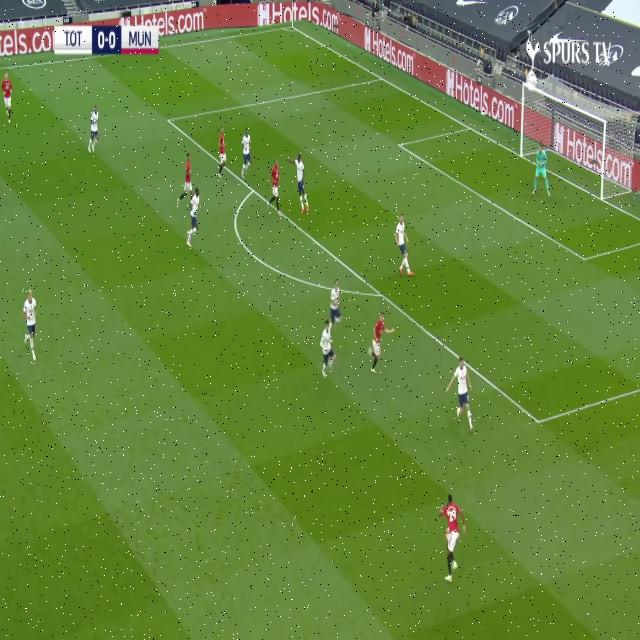GoalKeeper: (530, 136, 550, 198)
TEAM 1: (362, 305, 396, 382), (439, 498, 466, 586), (267, 154, 283, 218), (175, 148, 192, 207), (214, 118, 230, 180), (2, 73, 18, 124)
TEAM 2: (443, 352, 477, 441), (17, 278, 49, 362), (291, 148, 312, 217), (185, 184, 204, 258), (320, 318, 341, 380), (396, 212, 414, 280), (239, 124, 254, 196), (85, 99, 102, 162), (330, 277, 344, 330)
